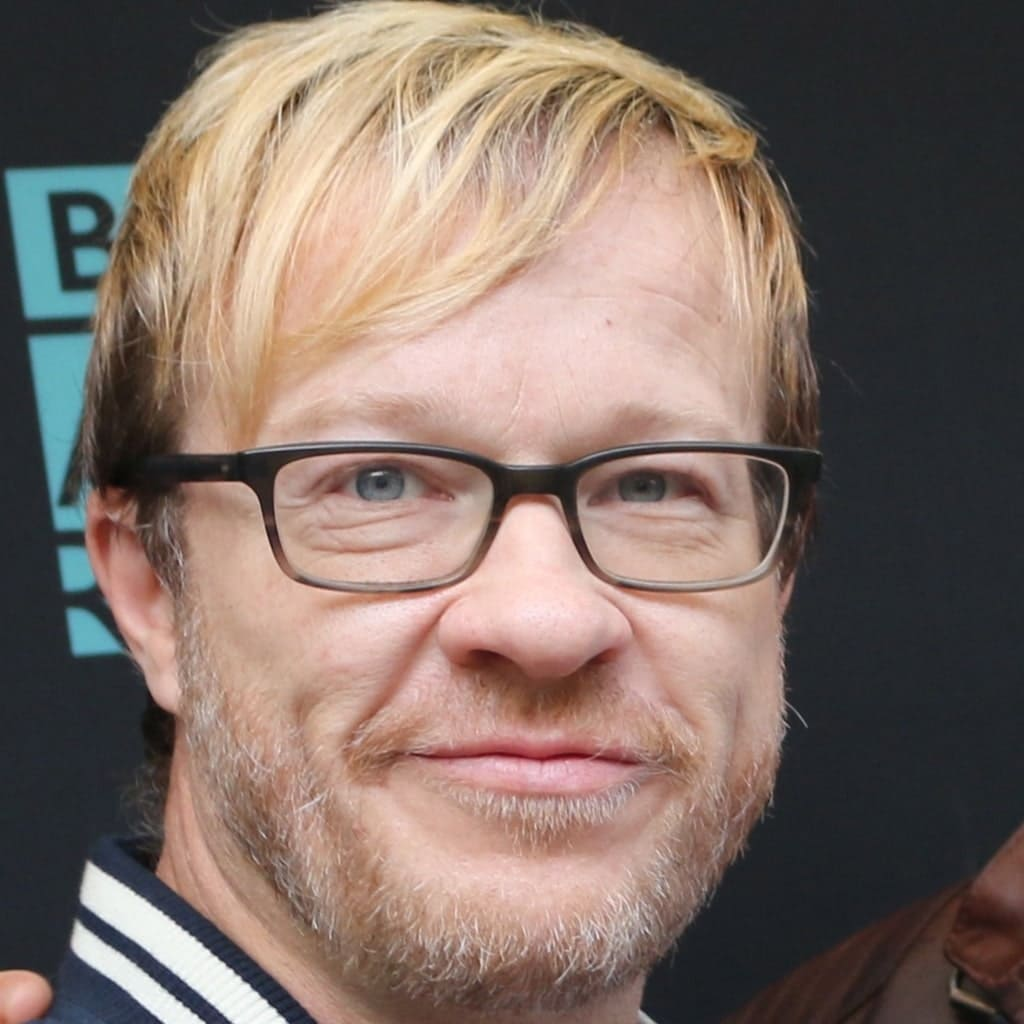without_mask: (156, 135, 786, 942)
